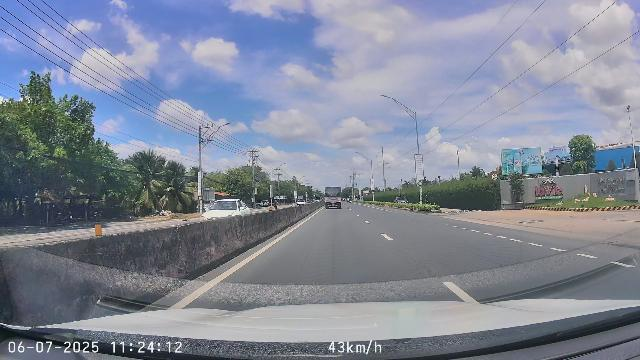103a-cam-oto: (491, 173, 499, 181)
